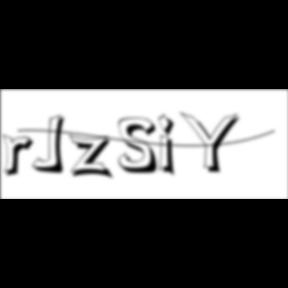J: (32, 114, 72, 176)
S: (118, 117, 164, 176)
Y: (180, 110, 246, 176)
i: (158, 112, 182, 180)
r: (3, 134, 41, 180)
z: (70, 134, 119, 182)
